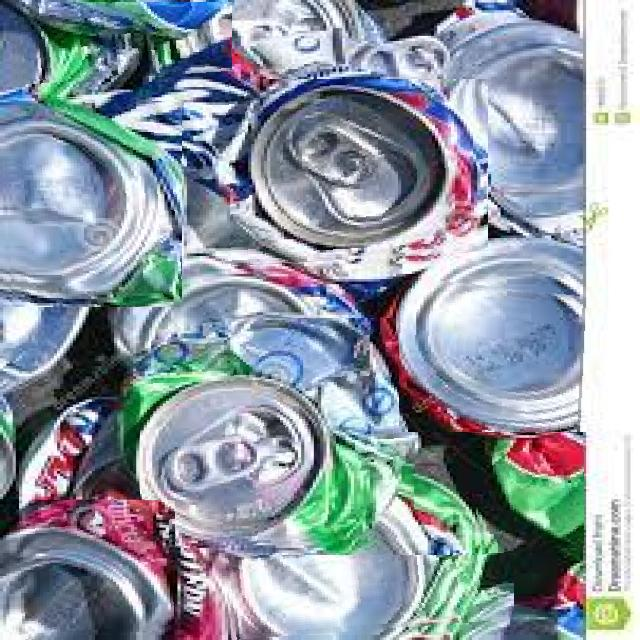Cans: (140, 318, 418, 548), (220, 79, 488, 267), (0, 96, 182, 307), (399, 276, 616, 432), (223, 555, 514, 640), (11, 500, 175, 640), (10, 2, 232, 85), (470, 452, 584, 554)
